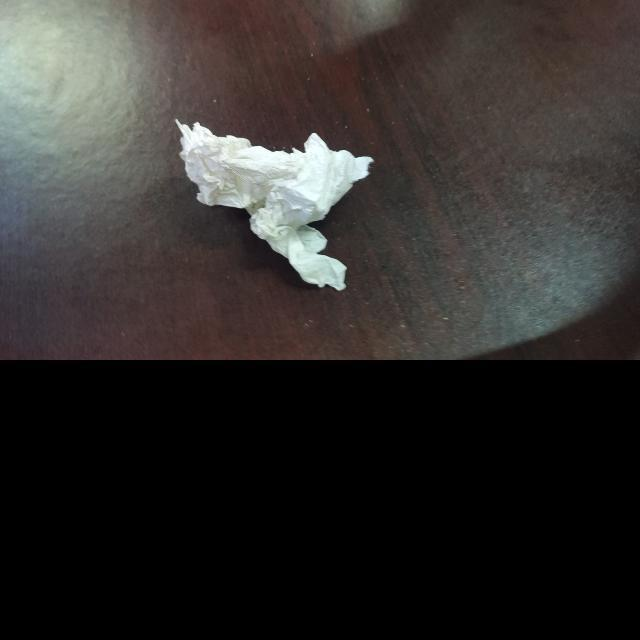kitchen paper: (168, 109, 378, 300)
